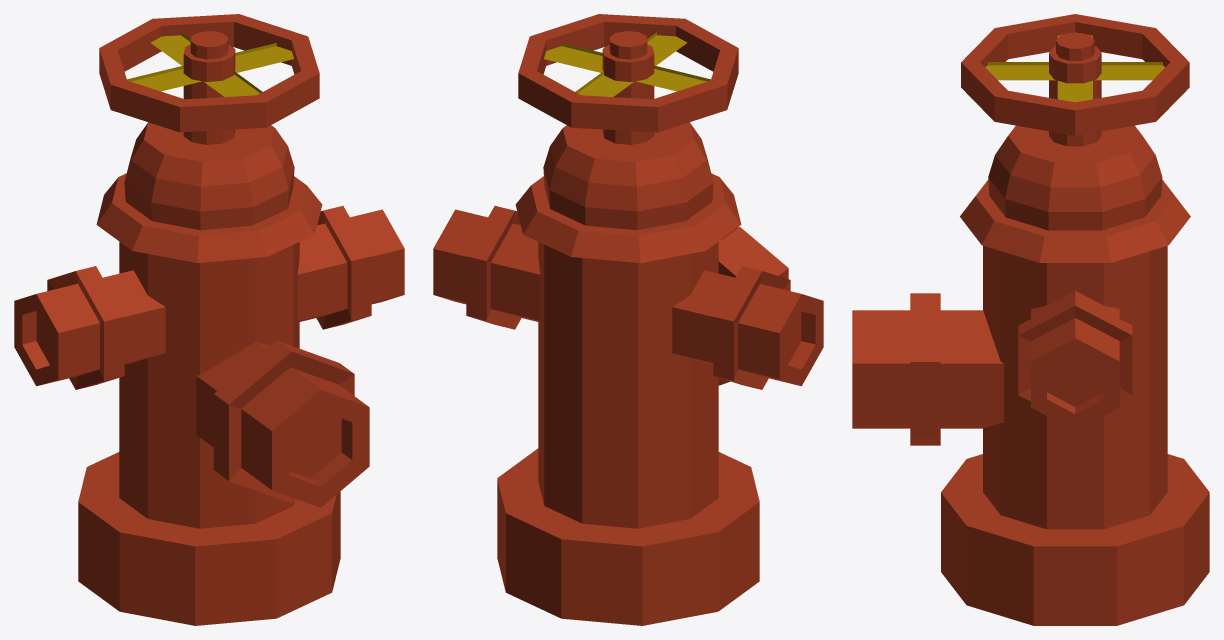
Rendered from hydrant-by-zsky-EzcO4t5S6O.glb.
The picture shows the model from 3 angles, left to right: view 1: azimuth 30°, elevation 25°; view 2: azimuth 150°, elevation 25°; view 3: azimuth 270°, elevation 25°; orthographic projection.
Visible parts, largest first — view 1: Hidrant_01_Cylinder.010; view 2: Hidrant_01_Cylinder.010; view 3: Hidrant_01_Cylinder.010.
Part boxes in pixels (box(x1,y1,x2,y2)): Hidrant_01_Cylinder.010: box(14, 14, 404, 625); Hidrant_01_Cylinder.010: box(433, 14, 823, 625); Hidrant_01_Cylinder.010: box(852, 14, 1209, 625).
Size of the model in its own units: 2.84 by 4.16 by 2.54.
